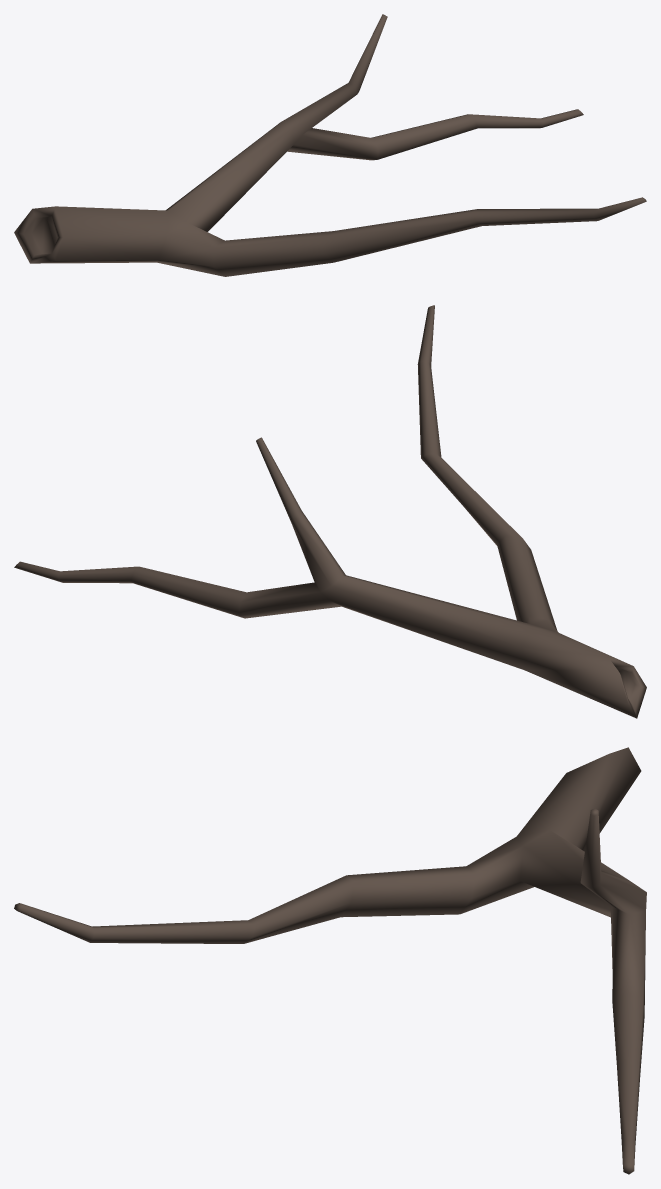
The picture shows the model from 3 angles, top to bottom: view 1: azimuth 30°, elevation 25°; view 2: azimuth 150°, elevation 25°; view 3: azimuth 270°, elevation 25°; orthographic projection. The views are drawn at different scales.
Parts seen in each view (by area): view 1: branch; view 2: branch; view 3: branch.
Part boxes in pixels (x1,y1,x2,y2): branch: (14, 14, 646, 276); branch: (14, 305, 646, 718); branch: (14, 747, 646, 1174).
Size of the model in its own units: 3.2 by 0.9408 by 2.25.
